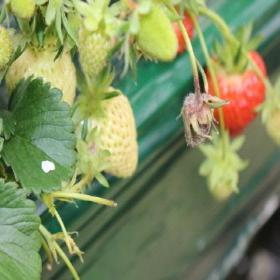Gray Mold: (178, 77, 230, 148)
